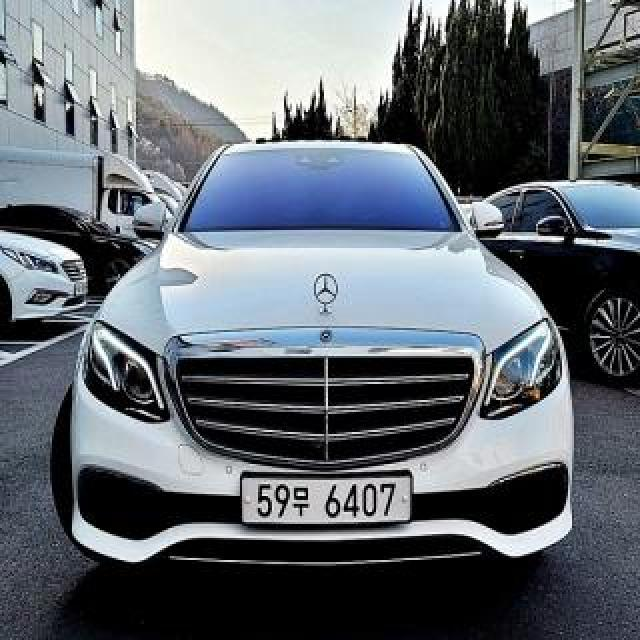car: (56, 127, 579, 595)
illegal_plate: (242, 472, 414, 536)
